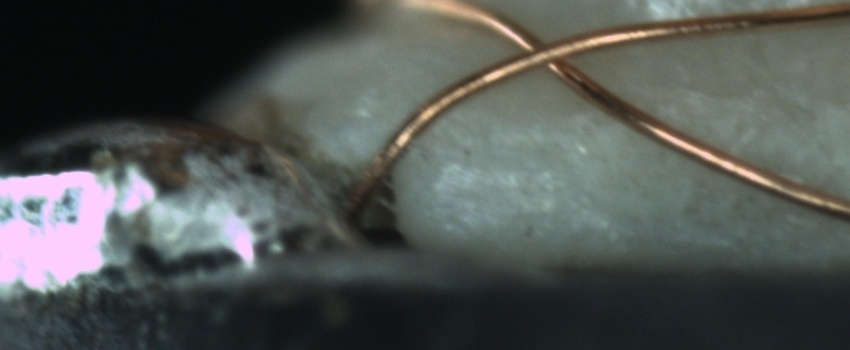CL: (504, 23, 588, 80)
DL: (438, 121, 561, 195)
